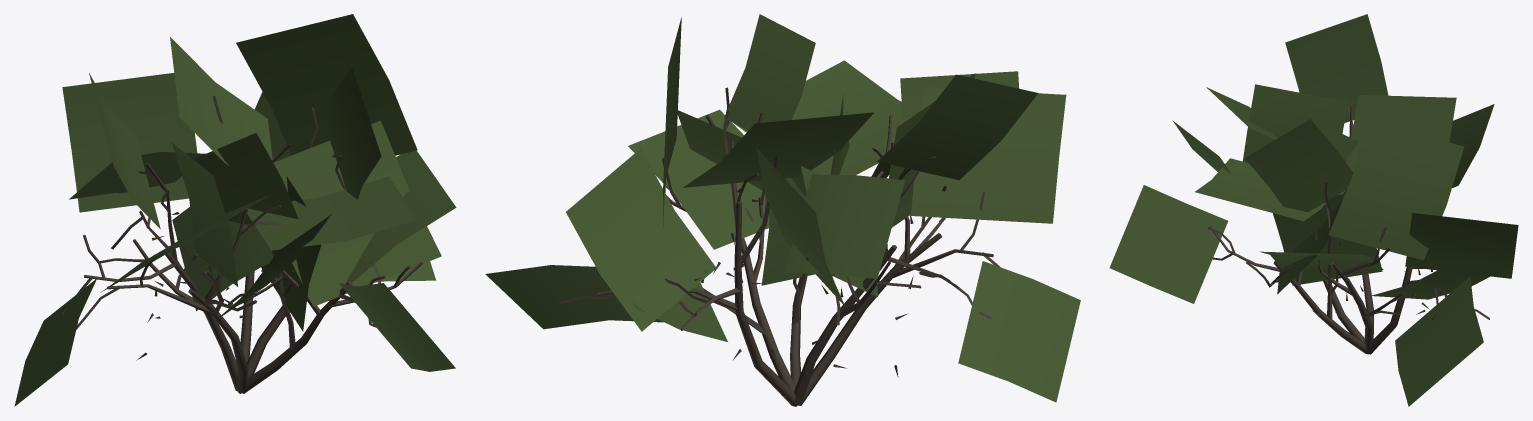
File: bush_b.glb
The picture shows the model from 3 angles, left to right: view 1: azimuth 30°, elevation 25°; view 2: azimuth 150°, elevation 25°; view 3: azimuth 270°, elevation 25°; orthographic projection. The views are drawn at different scales.
Visible parts, largest first — view 1: bush_b; view 2: bush_b; view 3: bush_b.
Part boxes in pixels (x1,y1,x2,y2): bush_b: [14, 14, 456, 406]; bush_b: [485, 14, 1080, 406]; bush_b: [1109, 14, 1518, 406].
Size of the model in its own units: 2.64 by 1.93 by 2.55.
